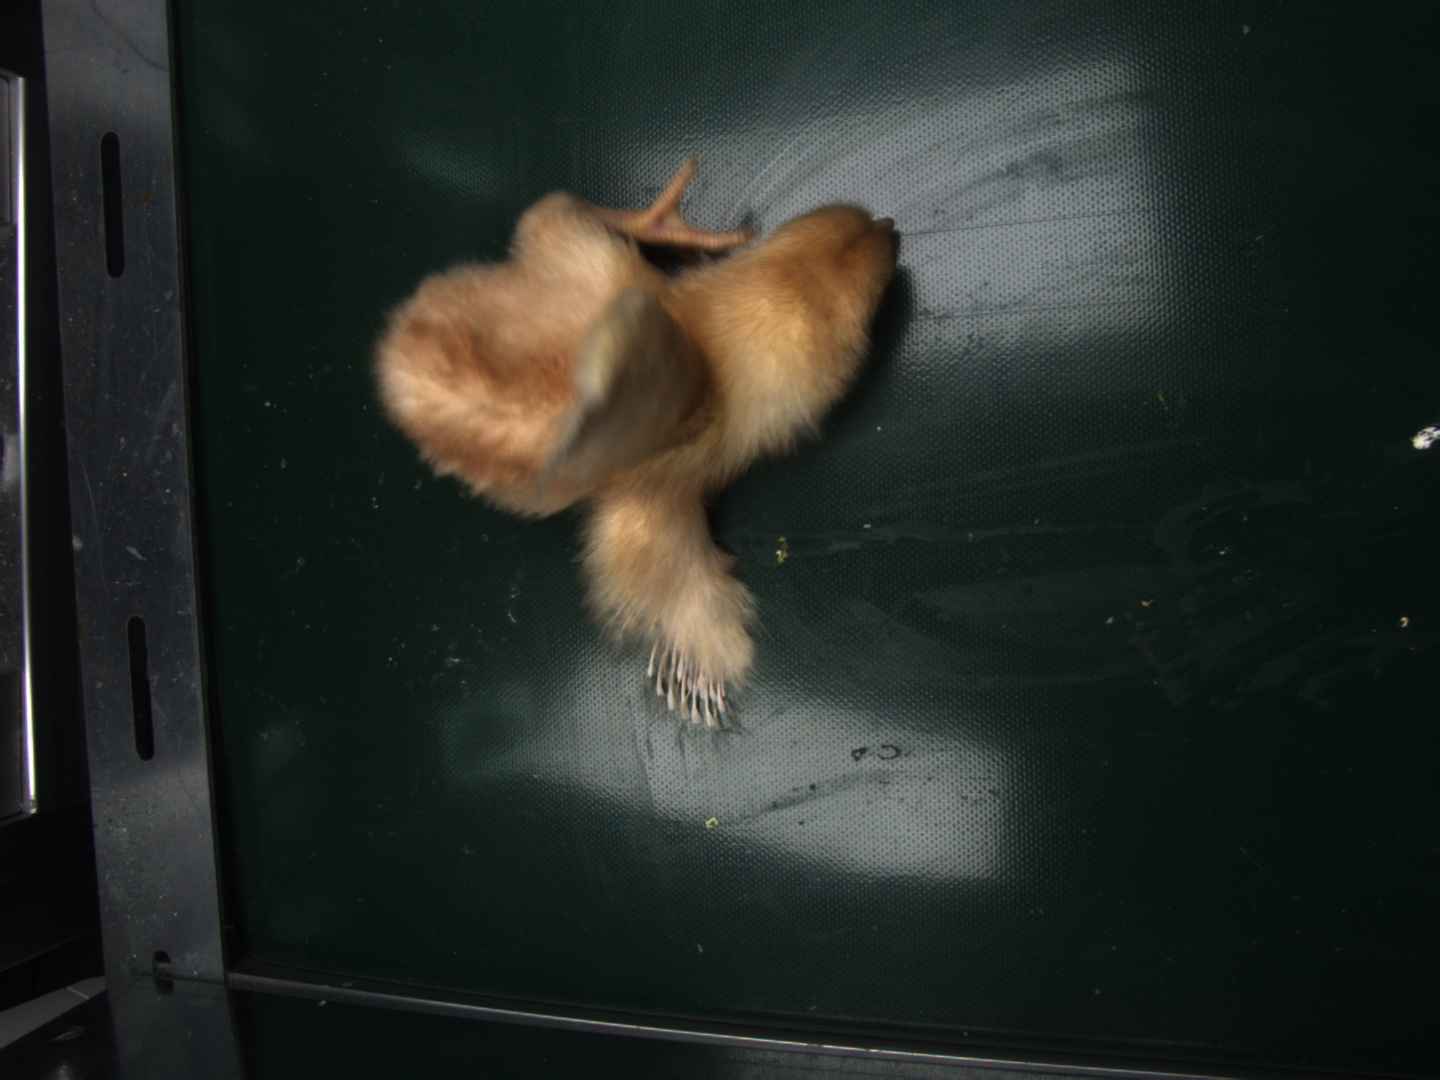female: (645, 639, 729, 723)
